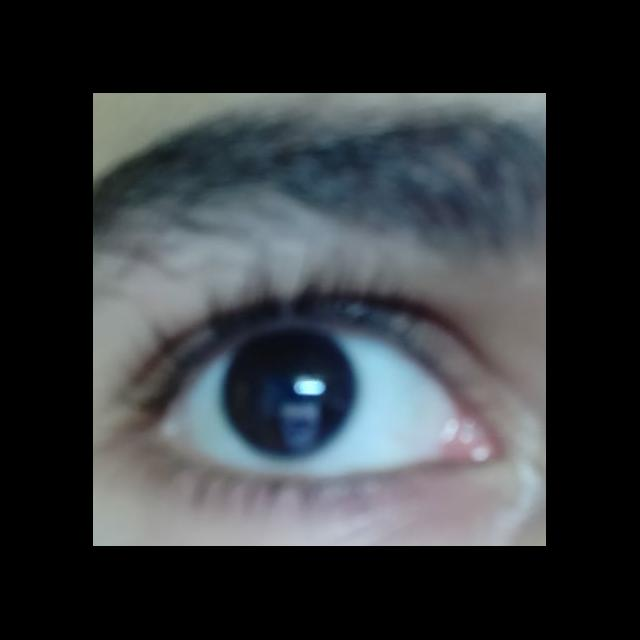eye: (160, 324, 466, 479)
iris: (222, 330, 360, 459)
